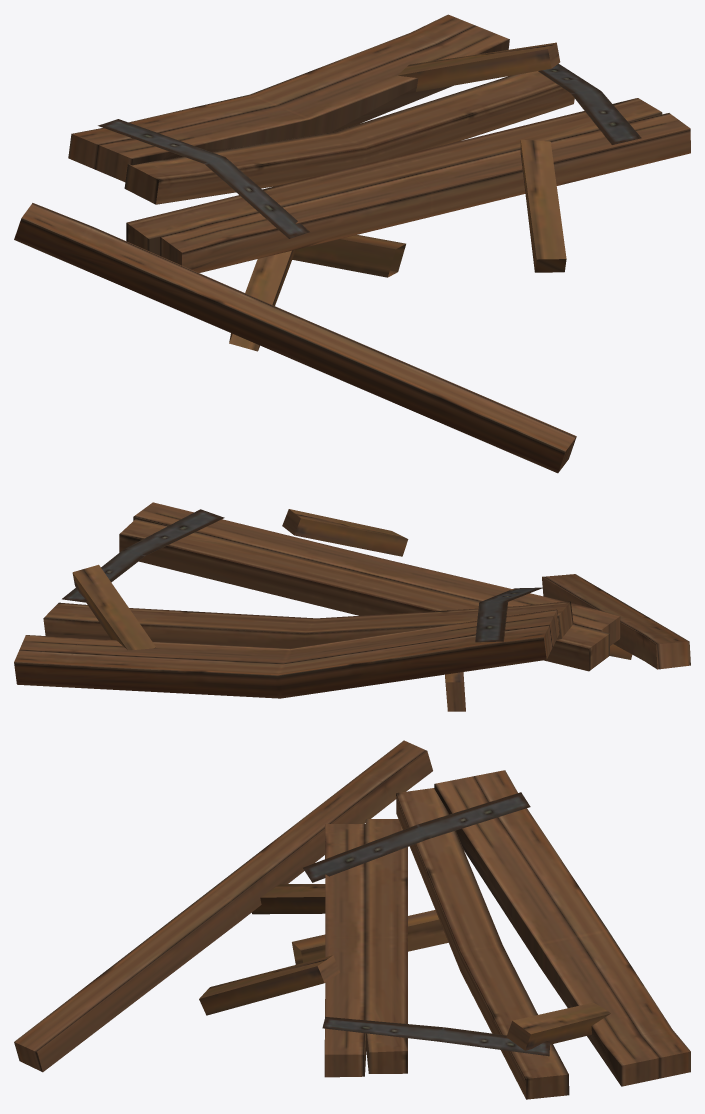
The model's file is 2_YiZhan_ZaWu_PoZhuoZi_01.FBX.
3 renders of one model, top to bottom at view 1: azimuth 30°, elevation 25°; view 2: azimuth 150°, elevation 25°; view 3: azimuth 270°, elevation 25°, orthographic. The views are drawn at different scales.
Visible parts, largest first — view 1: 2_YiZhan_ZaWu_PoZhuoZi_01; view 2: 2_YiZhan_ZaWu_PoZhuoZi_01; view 3: 2_YiZhan_ZaWu_PoZhuoZi_01.
Boxes of the visible parts, bbox=[...] form: 2_YiZhan_ZaWu_PoZhuoZi_01: bbox=[14, 14, 690, 473]; 2_YiZhan_ZaWu_PoZhuoZi_01: bbox=[14, 502, 690, 711]; 2_YiZhan_ZaWu_PoZhuoZi_01: bbox=[14, 740, 690, 1099].
Size of the model in its own units: 423 by 131 by 423.
1 material, 1 textured.
